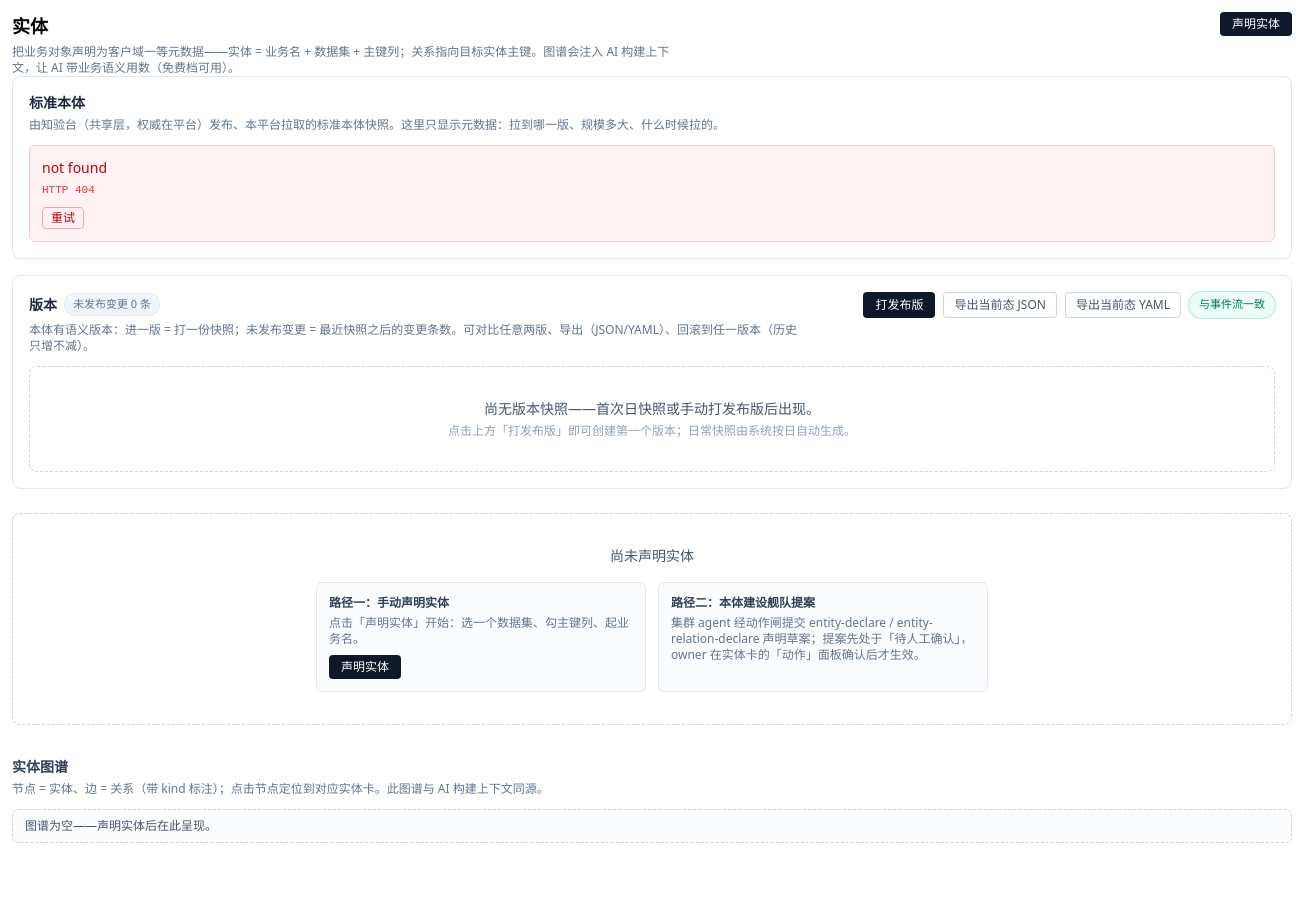
EntitiesPage 创建流（数据集下拉 → 主键勾选 → 业务名 → 描述） › 前端先拦：未勾主键列不发请求；换数据集重置勾选
Expected: the element with test id "entities-empty" is shown, [12, 512, 1292, 724]
Click the button with test id "entity-create-open".
click(1256, 24)  # box [1220, 12, 1292, 36]
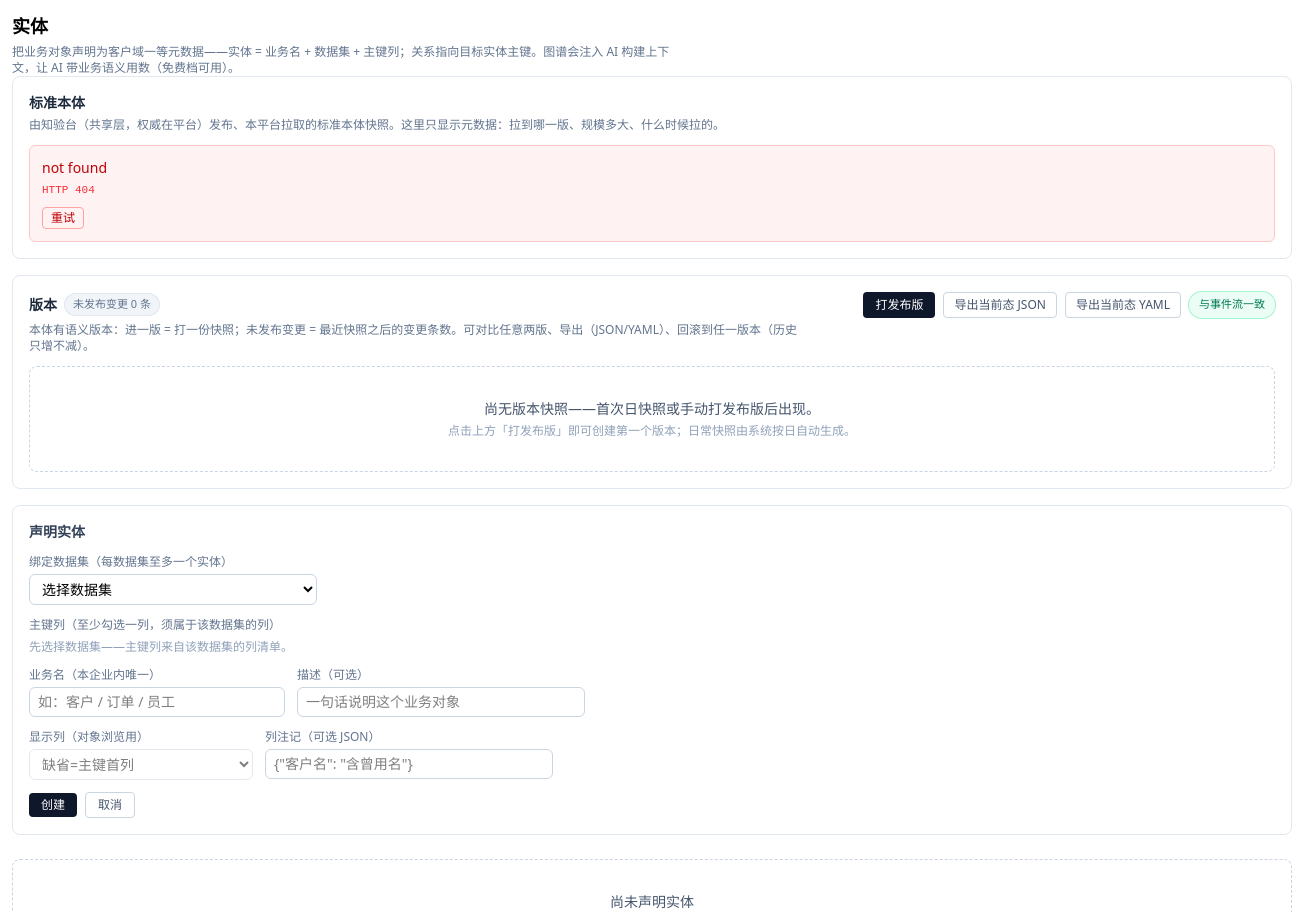
Select "客户表 · 1200 行" in the dropdown with test id "entity-create-dataset" at {"x": 173, "y": 589}, box [29, 574, 317, 604]
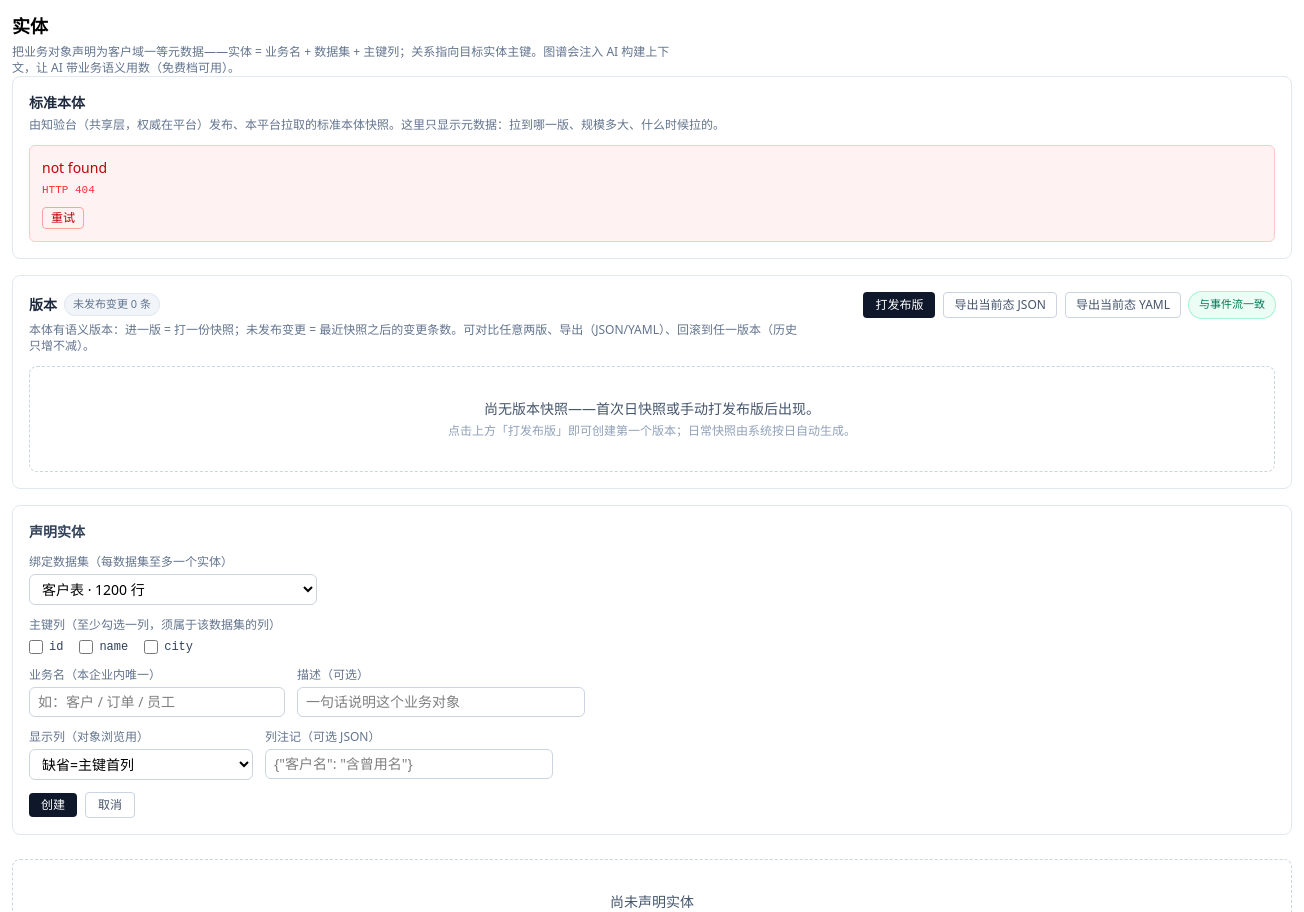
Click the checkbox with test id "entity-create-pk-check" showing "id".
click(36, 646)  # box [29, 640, 43, 654]
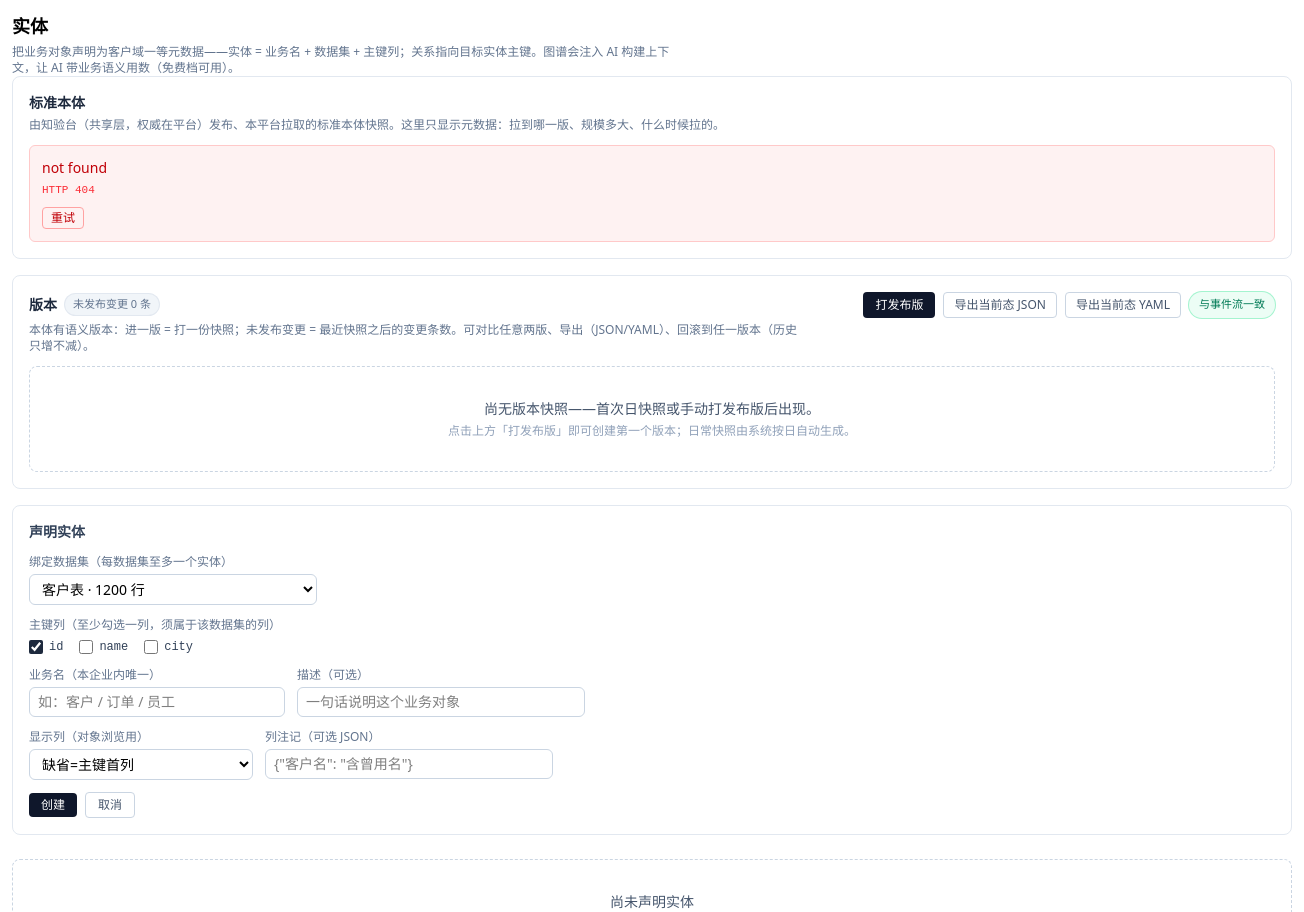
Select "订单表 · 9800 行" in the dropdown with test id "entity-create-dataset" at {"x": 173, "y": 589}, box [29, 574, 317, 604]
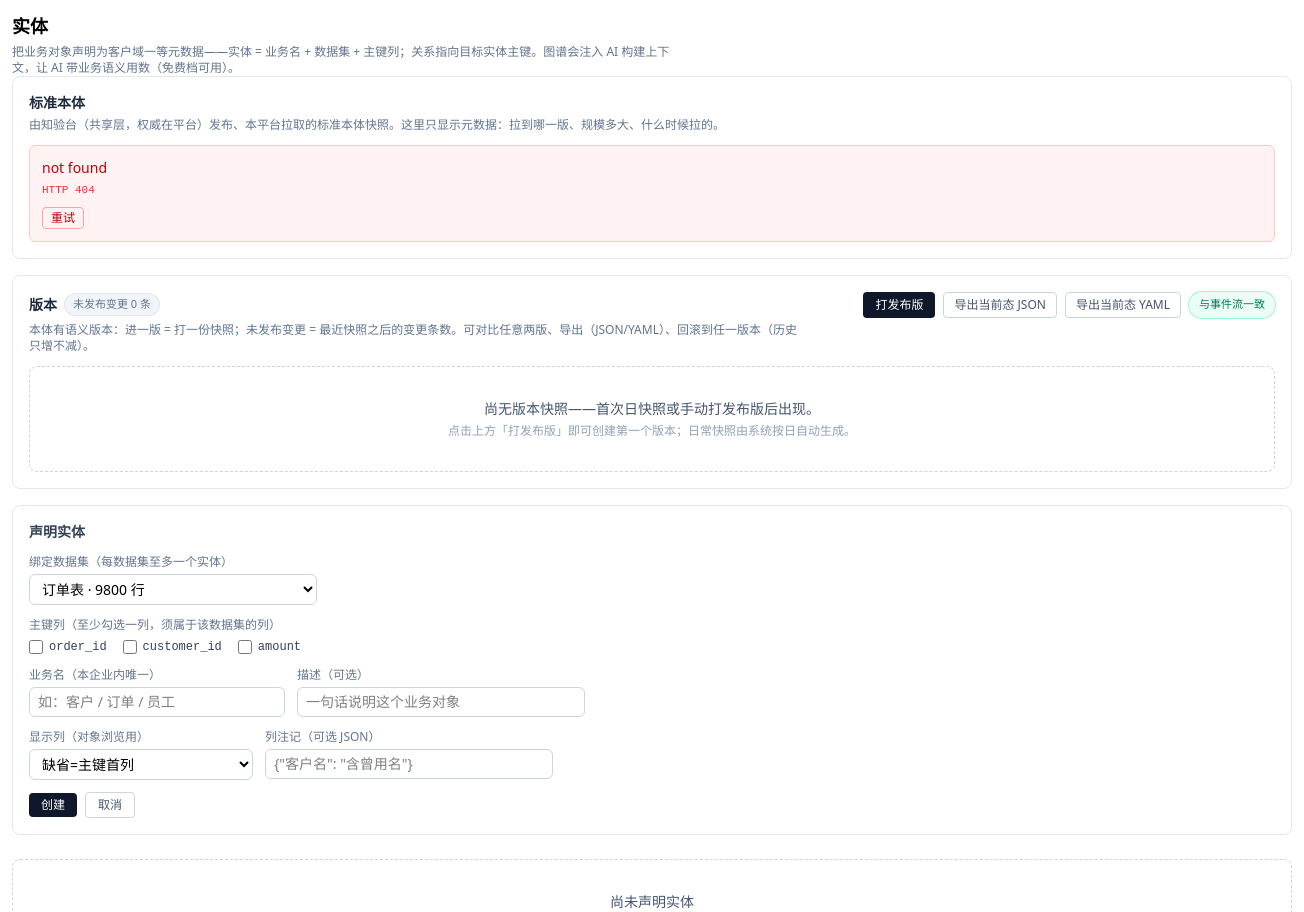
Type "订单" into the field with test id "entity-create-name".
click(157, 702); type("订单")  # box [29, 686, 285, 716]
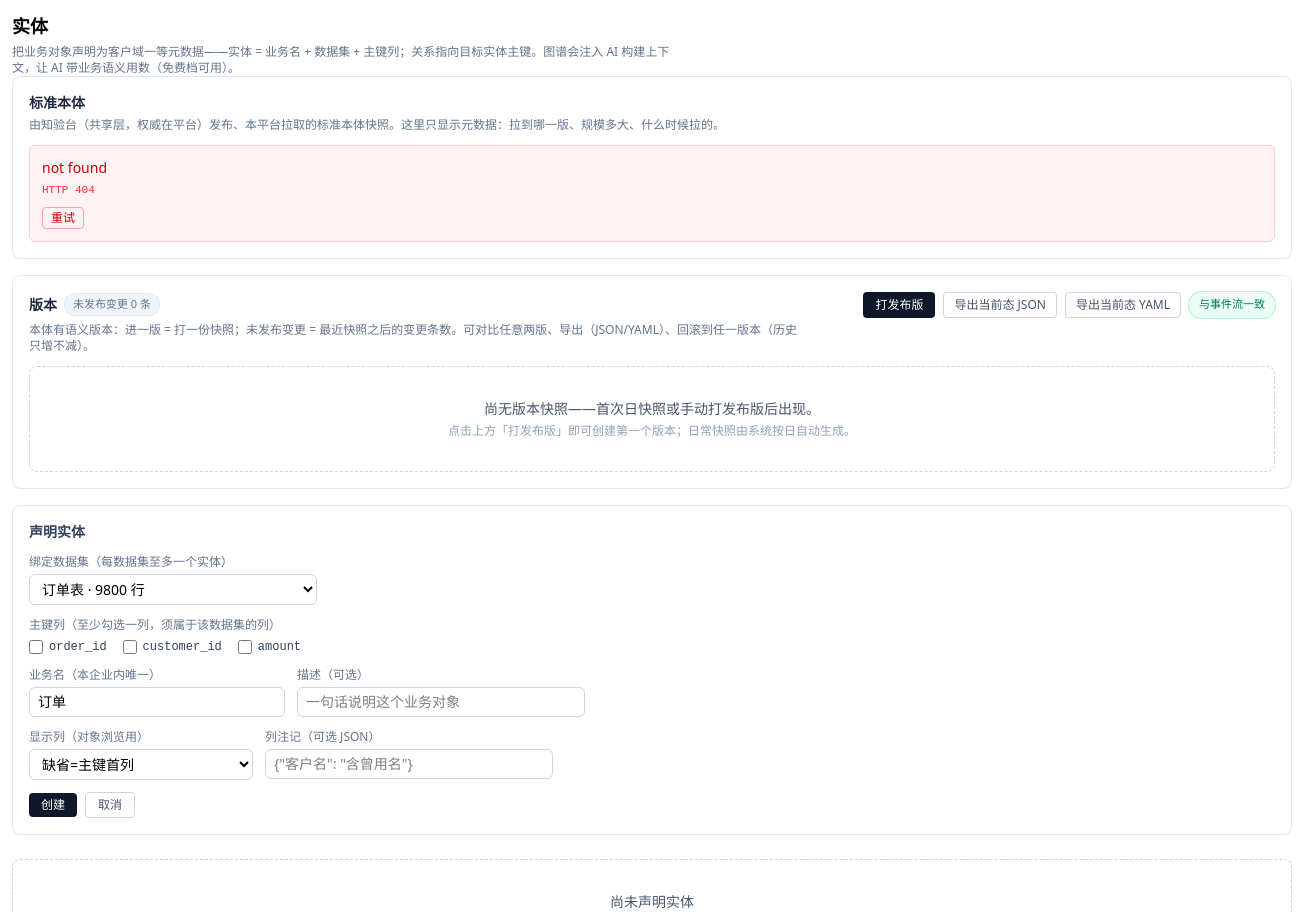
Click the button with test id "entity-create-submit".
click(53, 804)  # box [29, 792, 77, 816]
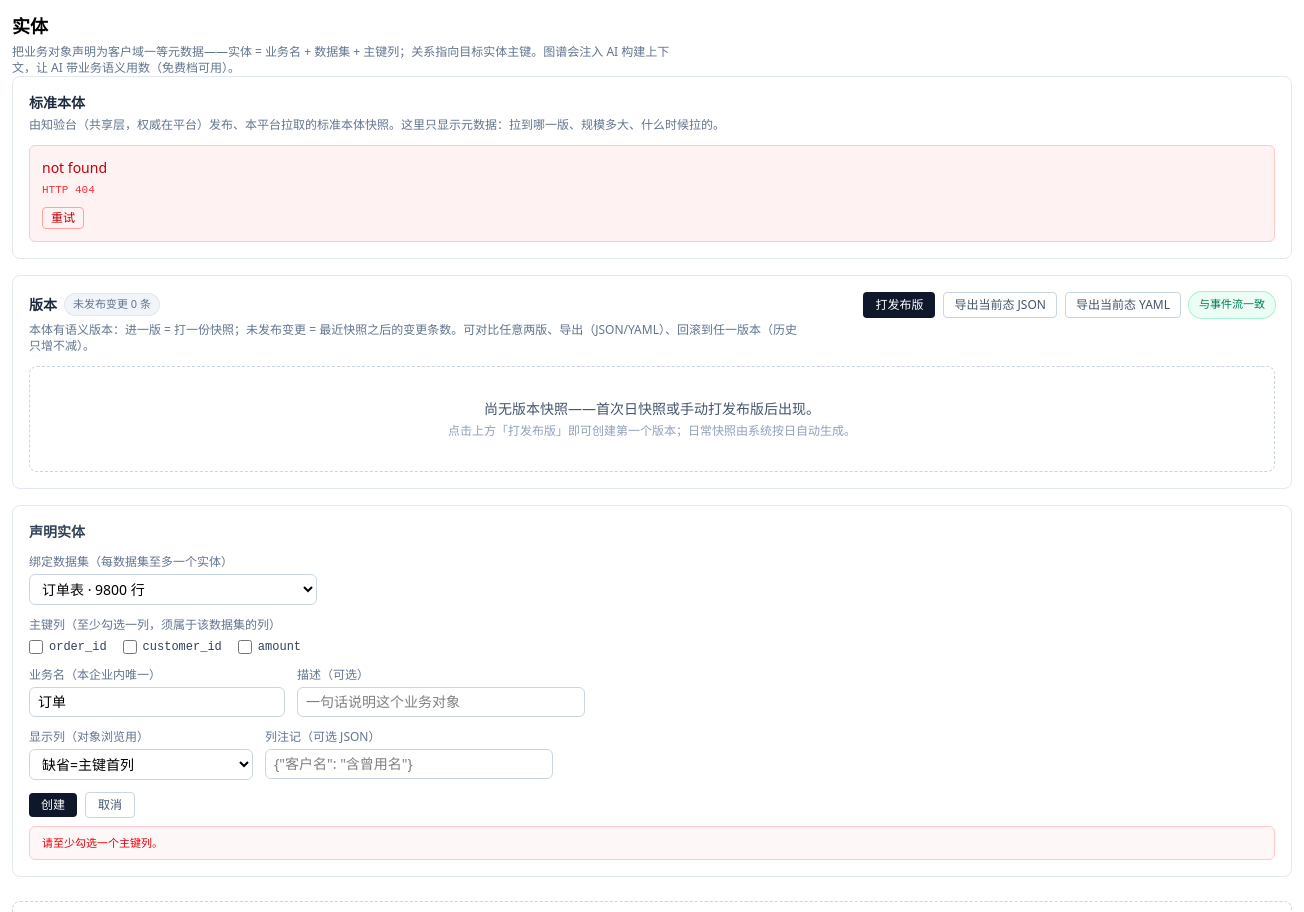
Result: the list with test id "entity-create-errors" shows "请至少勾选一个主键列" at [42, 834, 163, 850]
